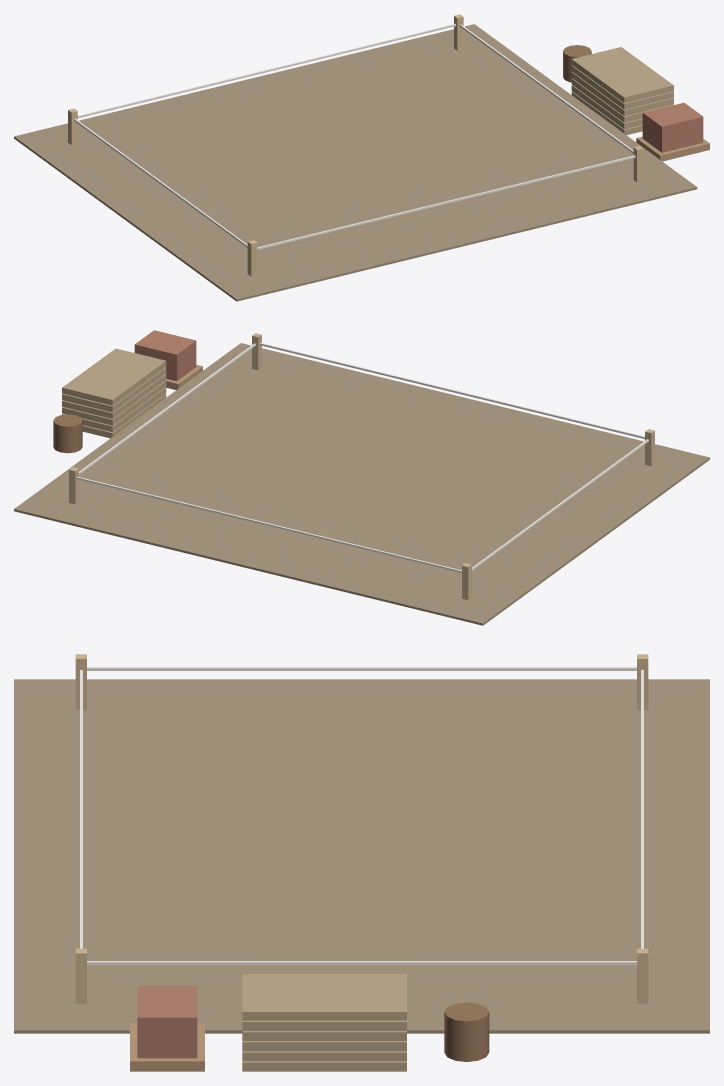
The model's file is winery_site_0.glb.
3 views of the same model, one above another, from view 1: azimuth 30°, elevation 25°; view 2: azimuth 150°, elevation 25°; view 3: azimuth 270°, elevation 25° (orthographic). The views are drawn at different scales.
Parts seen in each view (by area): view 1: body; view 2: body; view 3: body.
Boxes of the visible parts, bbox=[...] form: body: bbox=[14, 14, 709, 301]; body: bbox=[14, 330, 709, 625]; body: bbox=[14, 654, 709, 1071].
Bounding box in the file's own units: 2.46 × 0.176 × 1.86.
